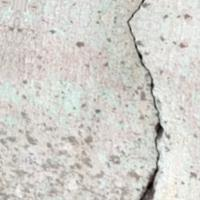crack: (112, 0, 166, 199)
